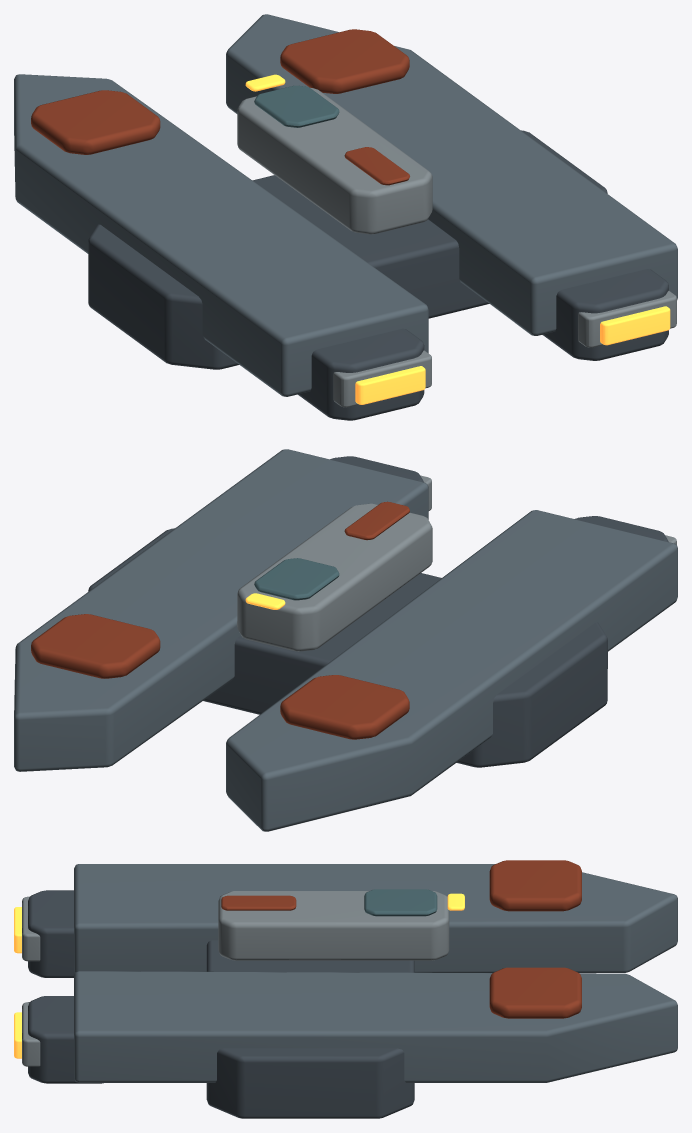
Rendered from enemy-medium-1slot.glb.
3 views of the same model, one above another, from view 1: azimuth 30°, elevation 25°; view 2: azimuth 150°, elevation 25°; view 3: azimuth 270°, elevation 25° (orthographic). The views are drawn at different scales.
Parts seen in each view (by area): view 1: Twin prow, Twin prow.001, Transverse bridge, Command spine, Rust prow, Rust prow.001, Engine cowling, Engine cowling.001, Recessed bridge glass, Amber exhaust.001, Amber exhaust, Exhaust lip (+2 smaller); view 2: Twin prow, Twin prow.001, Transverse bridge, Command spine, Rust prow, Rust prow.001, Recessed bridge glass, Rust axial stripe, Engine cowling.001, Engine cowling; view 3: Twin prow.001, Twin prow, Transverse bridge, Command spine, Rust prow, Rust prow.001, Engine cowling.001, Engine cowling, Recessed bridge glass, Rust axial stripe, Exhaust lip, Exhaust lip.001.
Part boxes in pixels (x1,y1,x2,y2): Twin prow: (14,74,428,396); Twin prow.001: (226,14,677,335); Transverse bridge: (88,130,607,369); Command spine: (237,87,432,234); Rust prow: (31,90,160,154); Rust prow.001: (280,29,409,93); Engine cowling: (298,328,424,420); Engine cowling.001: (542,269,668,360); Recessed bridge glass: (254,85,339,127); Amber exhaust.001: (600,306,670,345); Amber exhaust: (355,366,425,404); Exhaust lip: (333,350,431,407); Twin prow: (226,510,677,831); Twin prow.001: (14,449,428,771); Transverse bridge: (88,528,607,767); Command spine: (237,503,432,651); Rust prow: (280,675,409,739); Rust prow.001: (31,614,160,678); Recessed bridge glass: (254,558,339,600); Rust axial stripe: (344,501,409,540); Engine cowling.001: (330,456,423,482); Engine cowling: (575,516,668,541); Twin prow.001: (74,971,677,1082); Twin prow: (74,864,677,973); Transverse bridge: (206,940,414,1118); Command spine: (218,891,449,960); Rust prow: (489,860,581,911); Rust prow.001: (489,967,581,1018); Engine cowling.001: (28,996,103,1083); Engine cowling: (28,890,75,977); Recessed bridge glass: (364,889,437,916); Rust axial stripe: (221,895,296,910); Exhaust lip: (22,896,40,961); Exhaust lip.001: (22,1002,40,1066).
Bounding box in the file's own units: 3.9 × 1.2 × 5.75.
